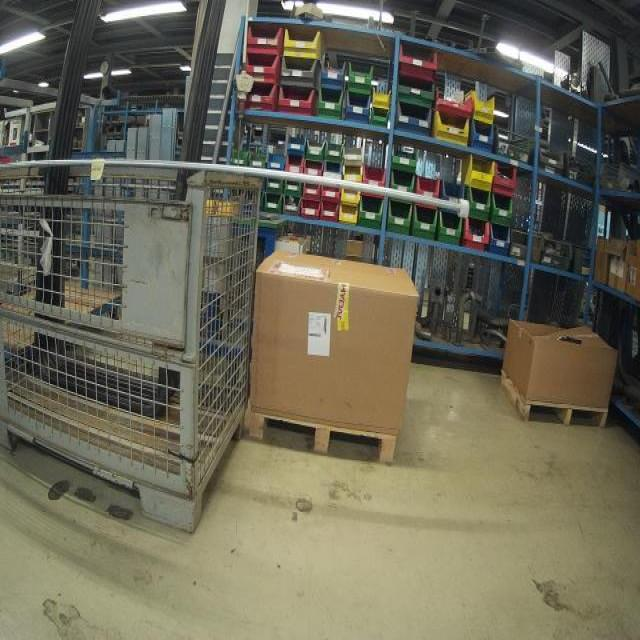pallet: (246, 409, 397, 466), (499, 370, 610, 431)
stillage: (3, 168, 263, 533)
